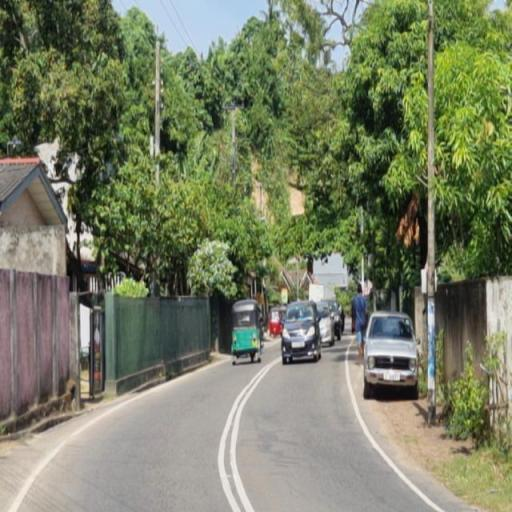double_white_line: (217, 357, 264, 512)
